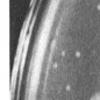white: (88, 92, 100, 100), (74, 50, 81, 59), (60, 50, 67, 58), (65, 84, 71, 92), (96, 4, 100, 15), (52, 62, 58, 69)
